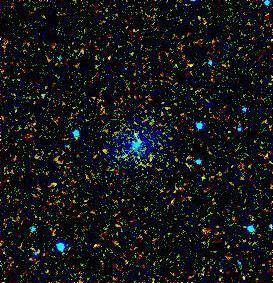star: (89, 135, 119, 165)
